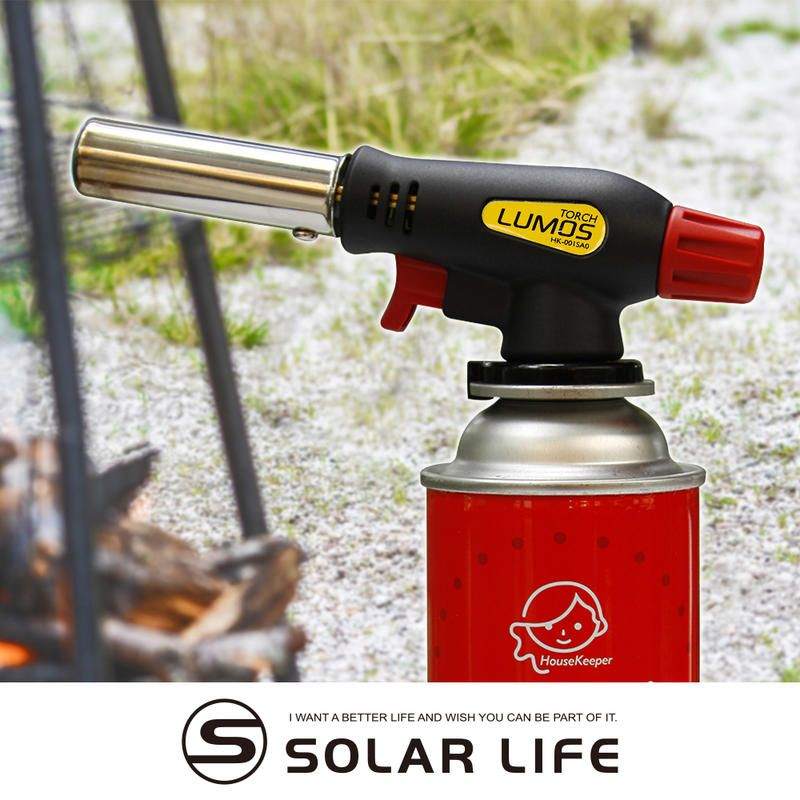gastorch: (60, 92, 768, 681)
